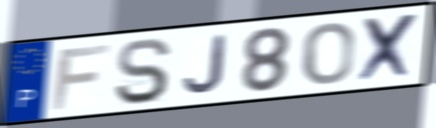8: (242, 26, 292, 94)
F: (49, 42, 113, 113)
J: (181, 34, 229, 96)
O: (301, 20, 356, 87)
S: (112, 36, 174, 106)
X: (357, 11, 422, 85)
